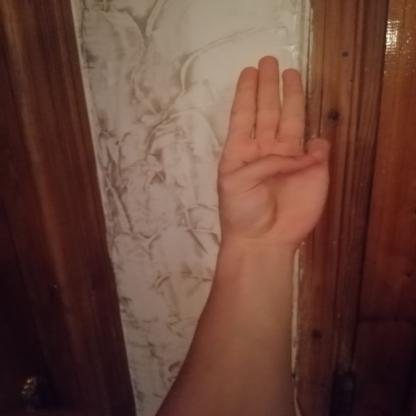THA: (200, 47, 342, 254)
